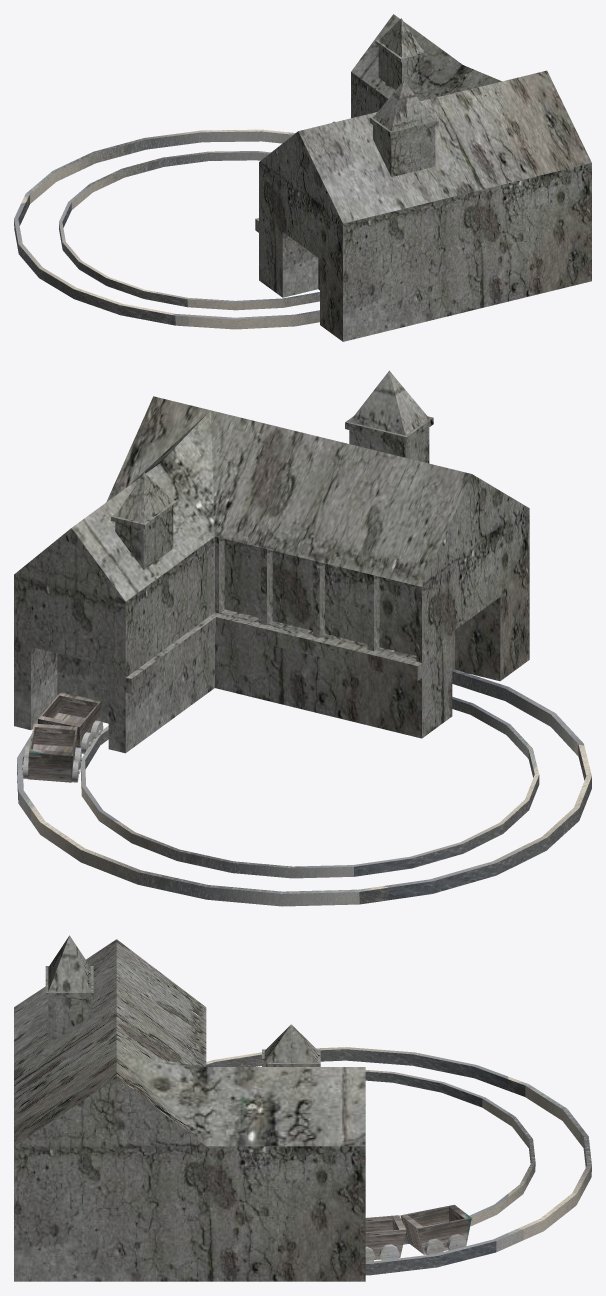
File: Haunted-house.FBX
3 views of the same model, one above another, from view 1: azimuth 30°, elevation 25°; view 2: azimuth 150°, elevation 25°; view 3: azimuth 270°, elevation 25° (orthographic). The views are drawn at different scales.
Parts seen in each view (by area): view 1: Haunted-ride; view 2: Haunted-ride, Cart001; view 3: Haunted-ride, Cart001.
Part boxes in pixels (bbox=[...]): Haunted-ride: bbox=[14, 14, 591, 341]; Haunted-ride: bbox=[14, 370, 591, 906]; Cart001: bbox=[22, 692, 103, 782]; Haunted-ride: bbox=[14, 935, 591, 1281]; Cart001: bbox=[365, 1204, 471, 1261].
Bounding box in the file's own units: 27.03 × 14.37 × 29.01.
4 materials, 4 textured.
